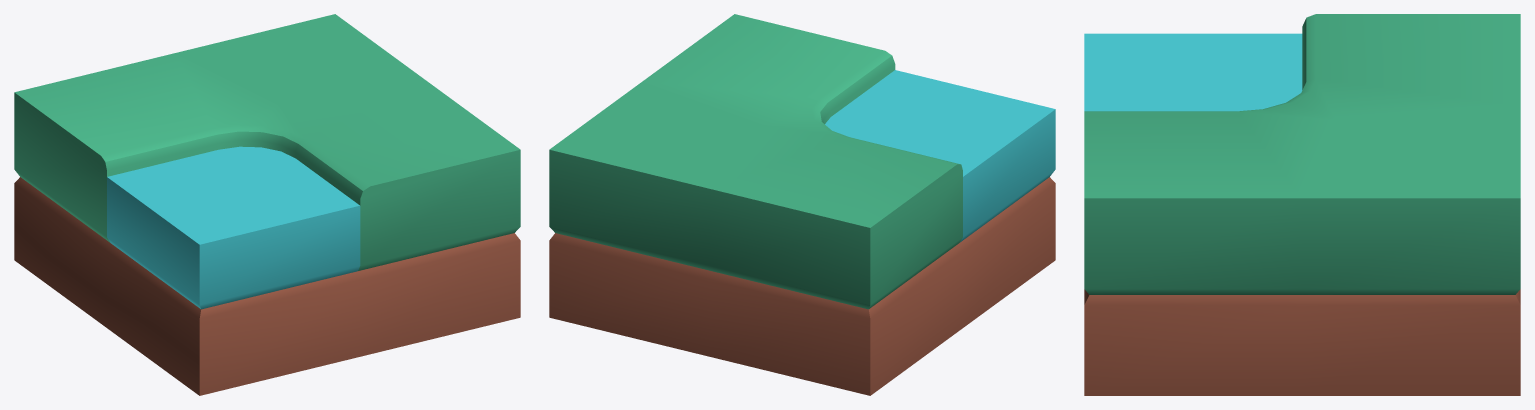
File: square_forest_waterInnerCorner.glb
The picture shows the model from 3 angles, left to right: view 1: azimuth 30°, elevation 25°; view 2: azimuth 150°, elevation 25°; view 3: azimuth 270°, elevation 25°; orthographic projection. The views are drawn at different scales.
Visible parts, largest first — view 1: square_forest_waterInnerCorner; view 2: square_forest_waterInnerCorner; view 3: square_forest_waterInnerCorner.
Boxes of the visible parts, <box> form: square_forest_waterInnerCorner: <box>14,14,520,395</box>; square_forest_waterInnerCorner: <box>549,14,1055,395</box>; square_forest_waterInnerCorner: <box>1084,14,1520,395</box>.
Size of the model in its own units: 2 by 1 by 2.
